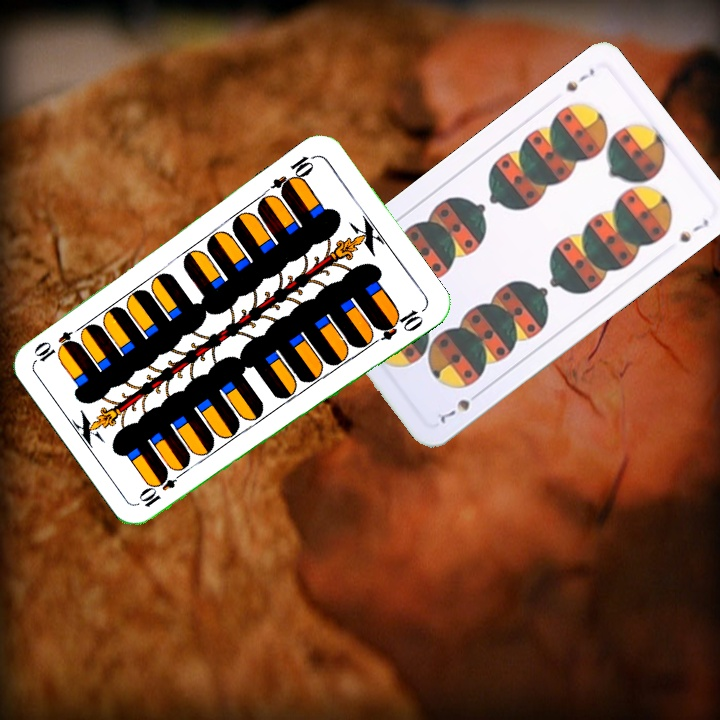E10: (267, 151, 319, 198), (135, 465, 188, 510)
S7: (436, 387, 484, 426), (561, 63, 598, 95)
